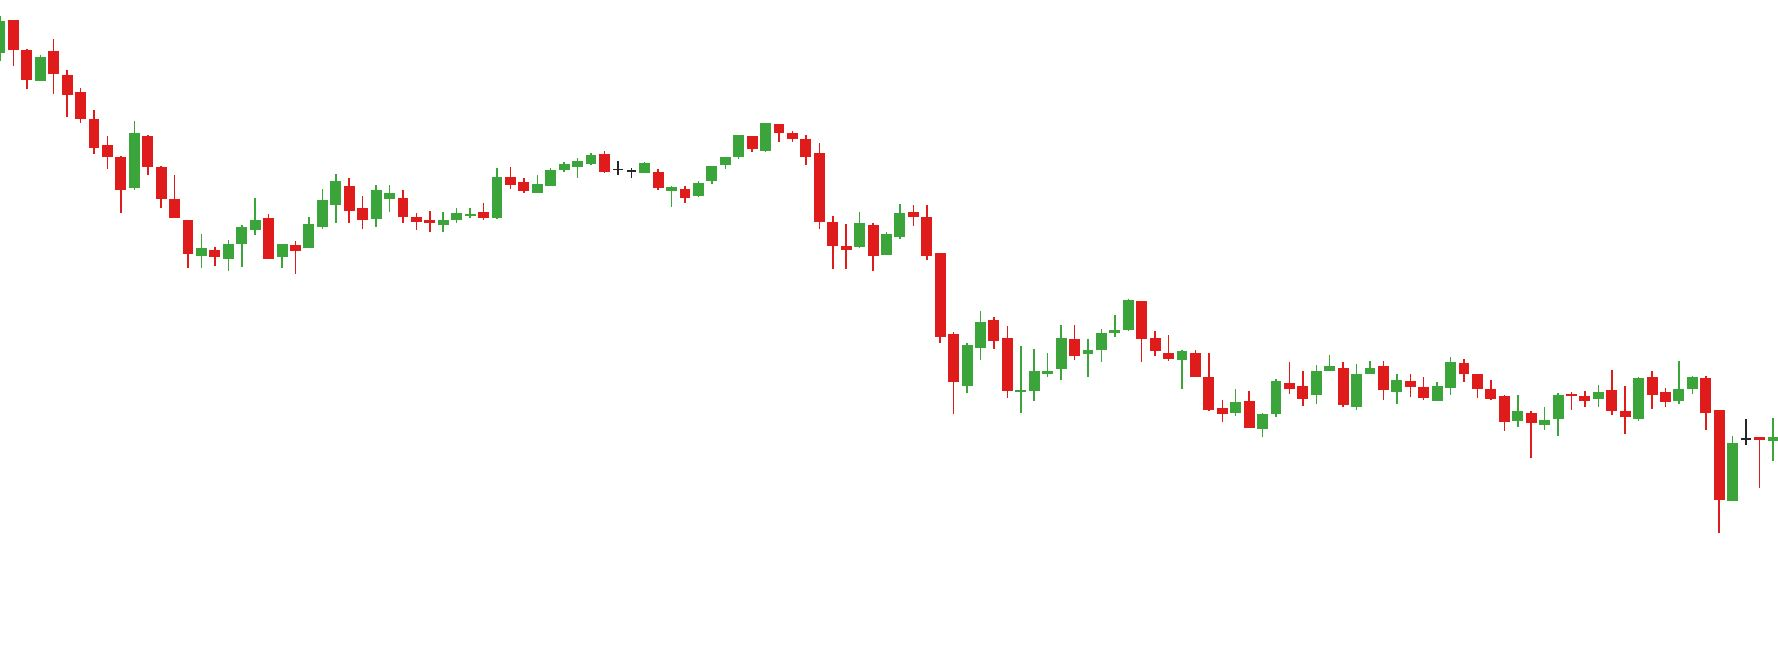sell: (974, 296, 1149, 373)
